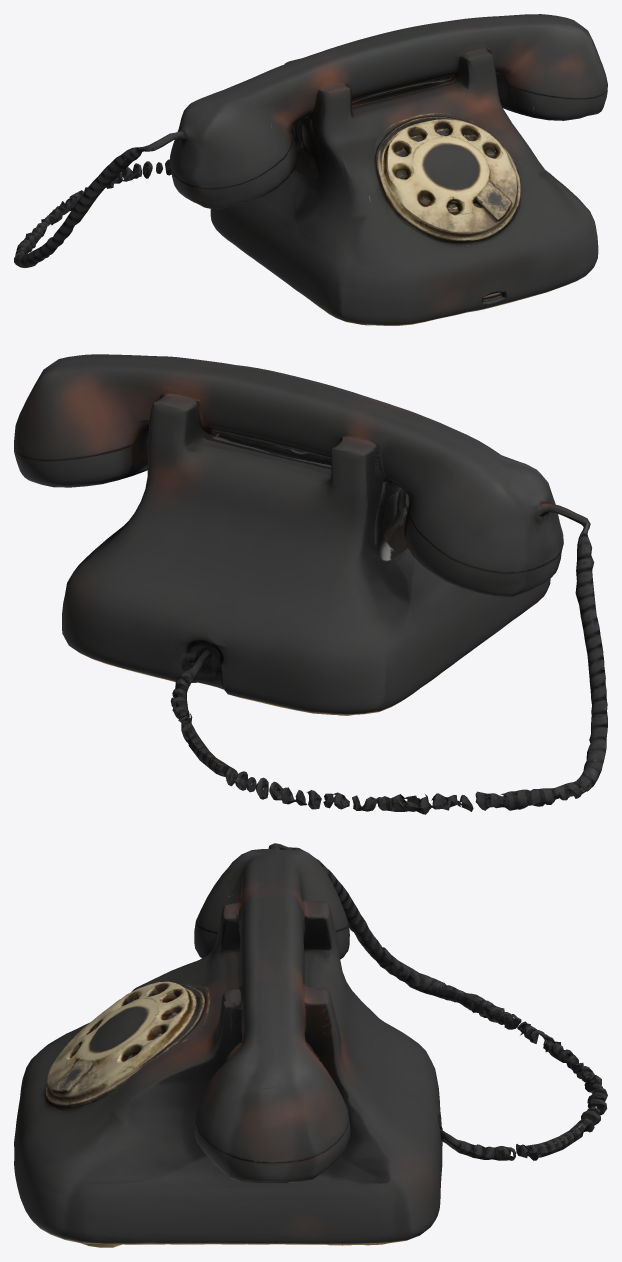
Rendered from Retro_Connection_texture.fbx.
The picture shows the model from 3 angles, top to bottom: view 1: azimuth 30°, elevation 25°; view 2: azimuth 150°, elevation 25°; view 3: azimuth 270°, elevation 25°; orthographic projection. The views are drawn at different scales.
Visible parts, largest first — view 1: Mesh0; view 2: Mesh0; view 3: Mesh0.
Part boxes in pixels (x1,y1,x2,y2): Mesh0: [14, 14, 607, 325]; Mesh0: [14, 354, 607, 814]; Mesh0: [14, 843, 607, 1247].
Size of the model in its own units: 191 by 73.42 by 153.
1 material, 1 textured.
